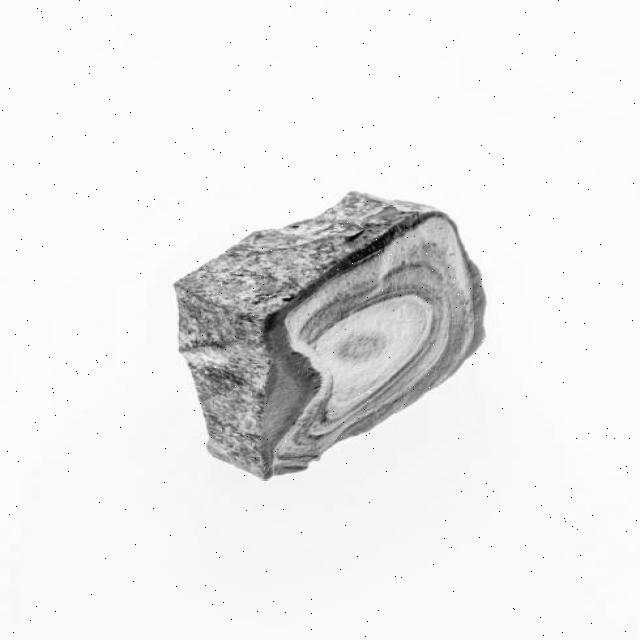Sedimentary: (152, 188, 517, 490)
